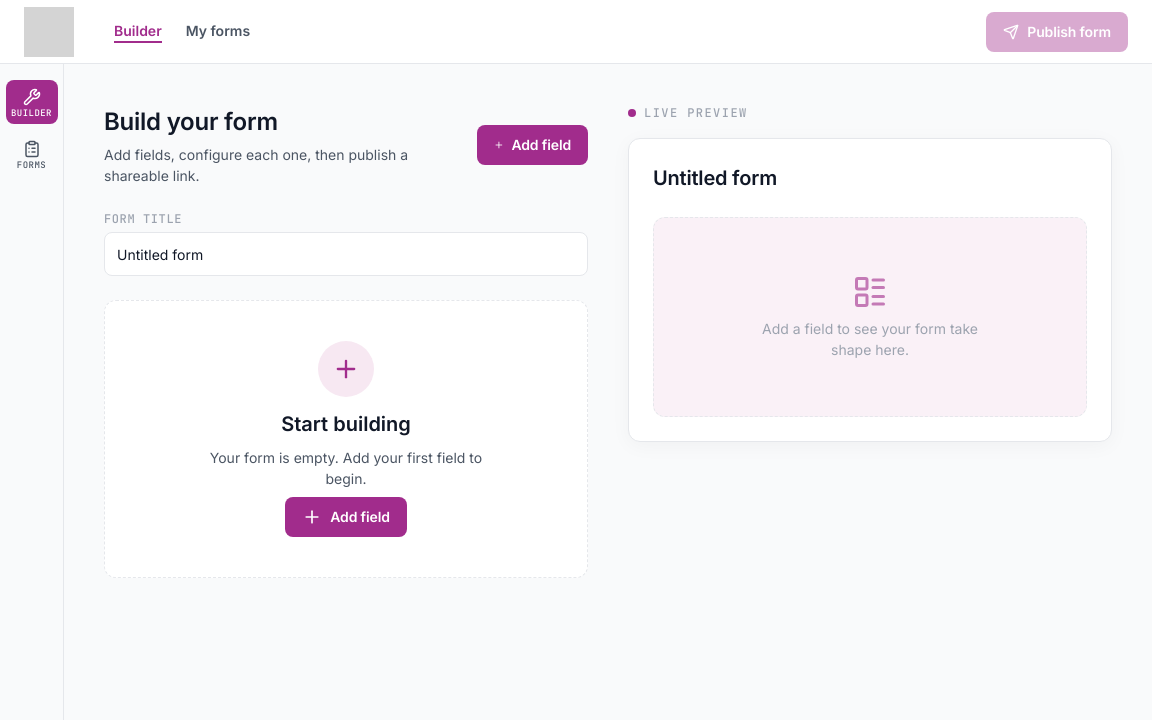
Scenario: FormBuilder › adds a configured field and reflects it in the live preview
The image size is (1152, 720).
Click the button "Add field" in the row of "Build your form": click(532, 145) [477,125,588,165]
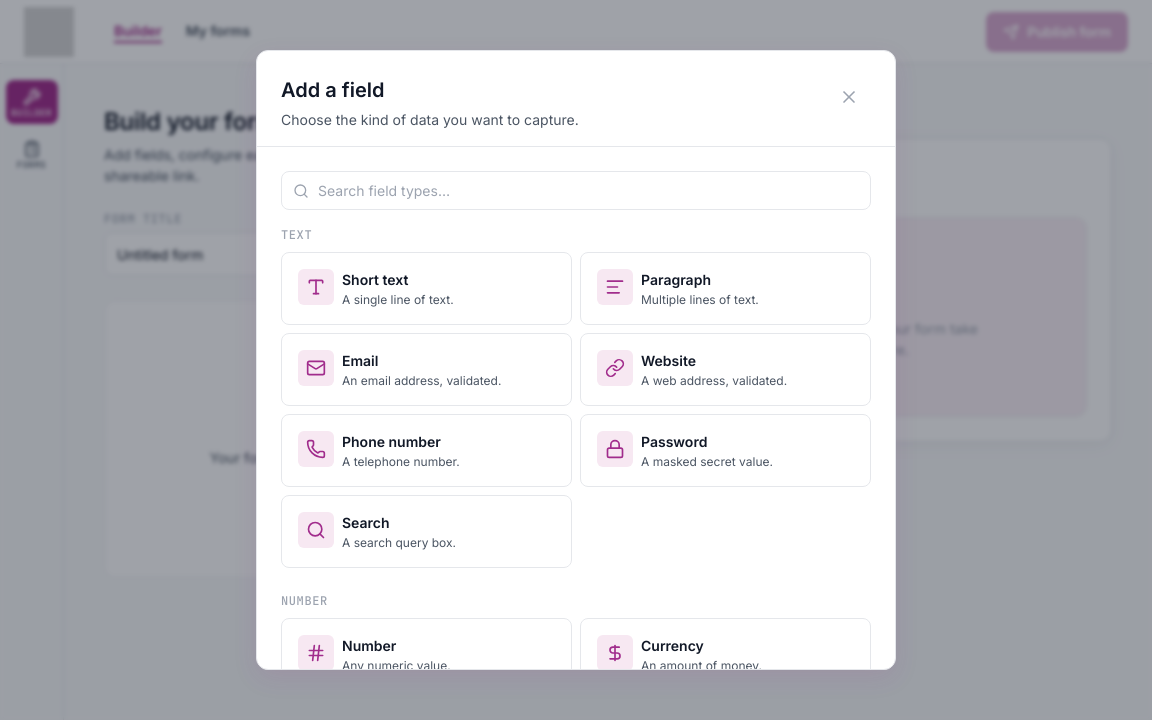
Click the button "Short text A single line of text.": click(316, 287) [281,252,572,325]
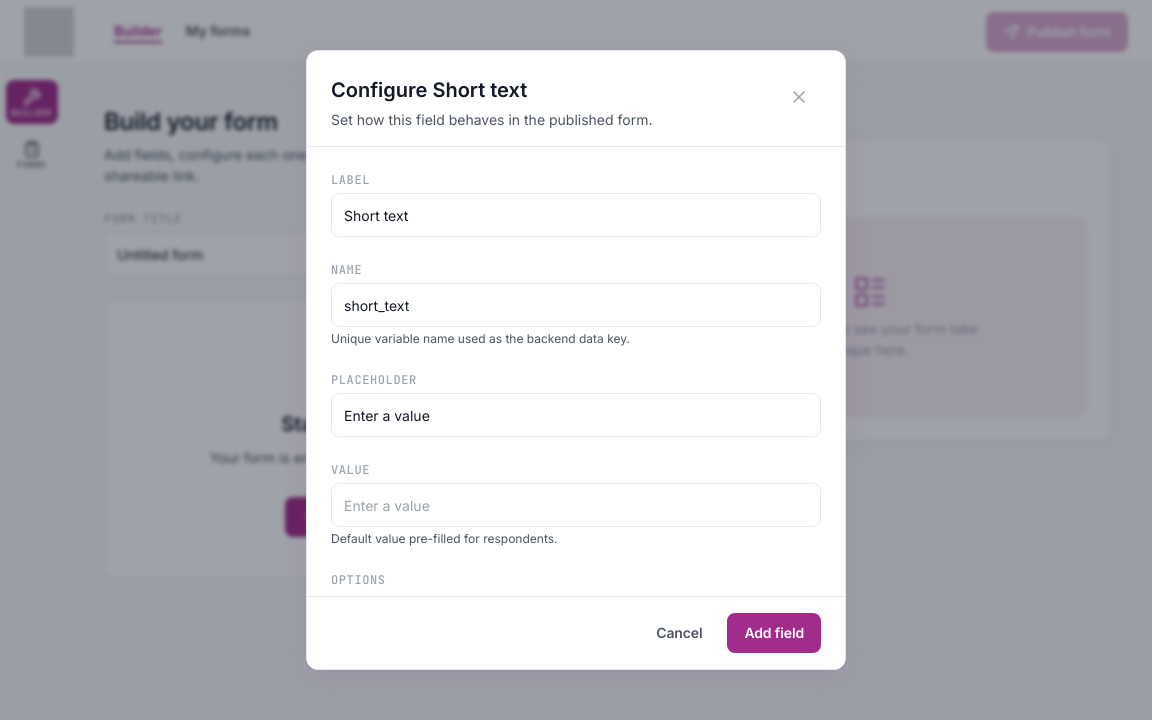
Replace the text in the field labelled "Label" with "First name": (576, 215) [331,193,821,237]
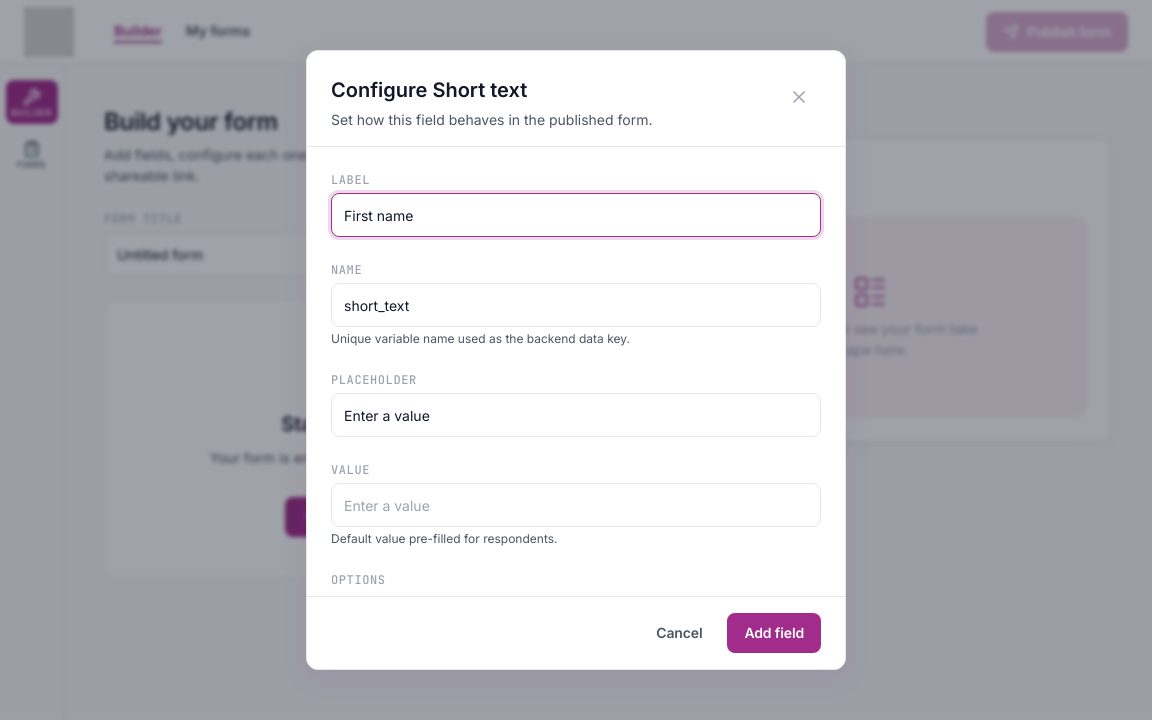
Click the button "Add field": click(774, 633) [727,613,821,653]
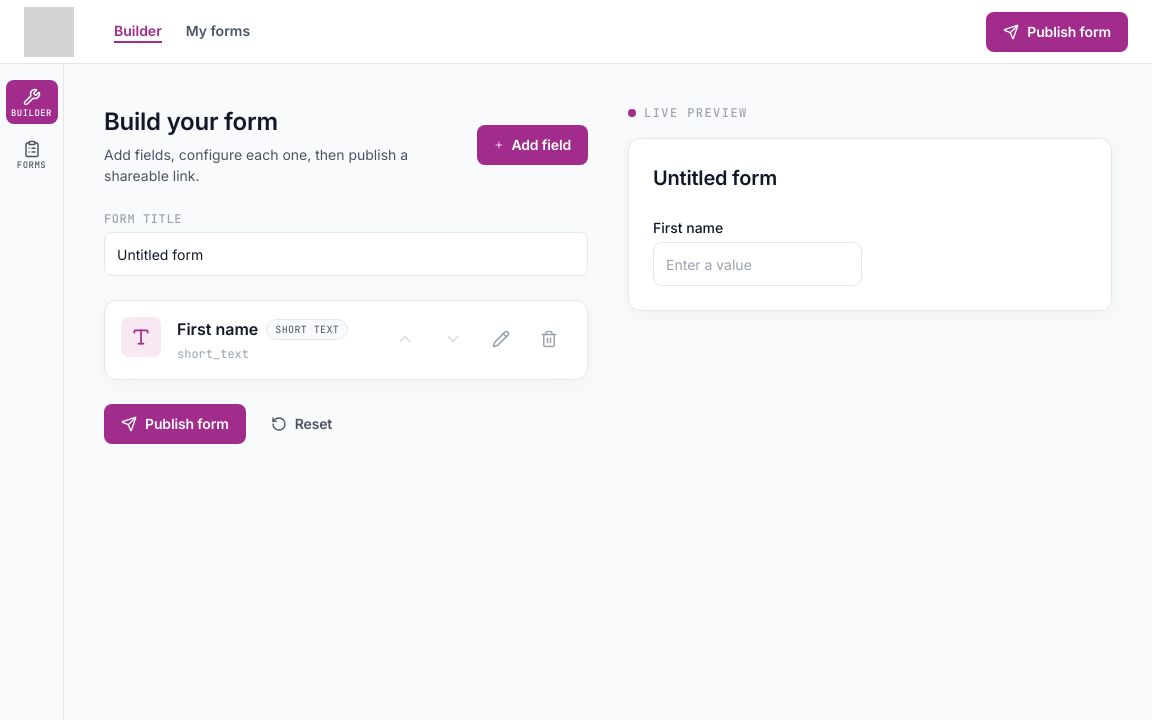
Now the button named "remove field: first name" is shown, box [527,317,571,361]
Now the text "First name" is shown, box [653,217,723,238]
